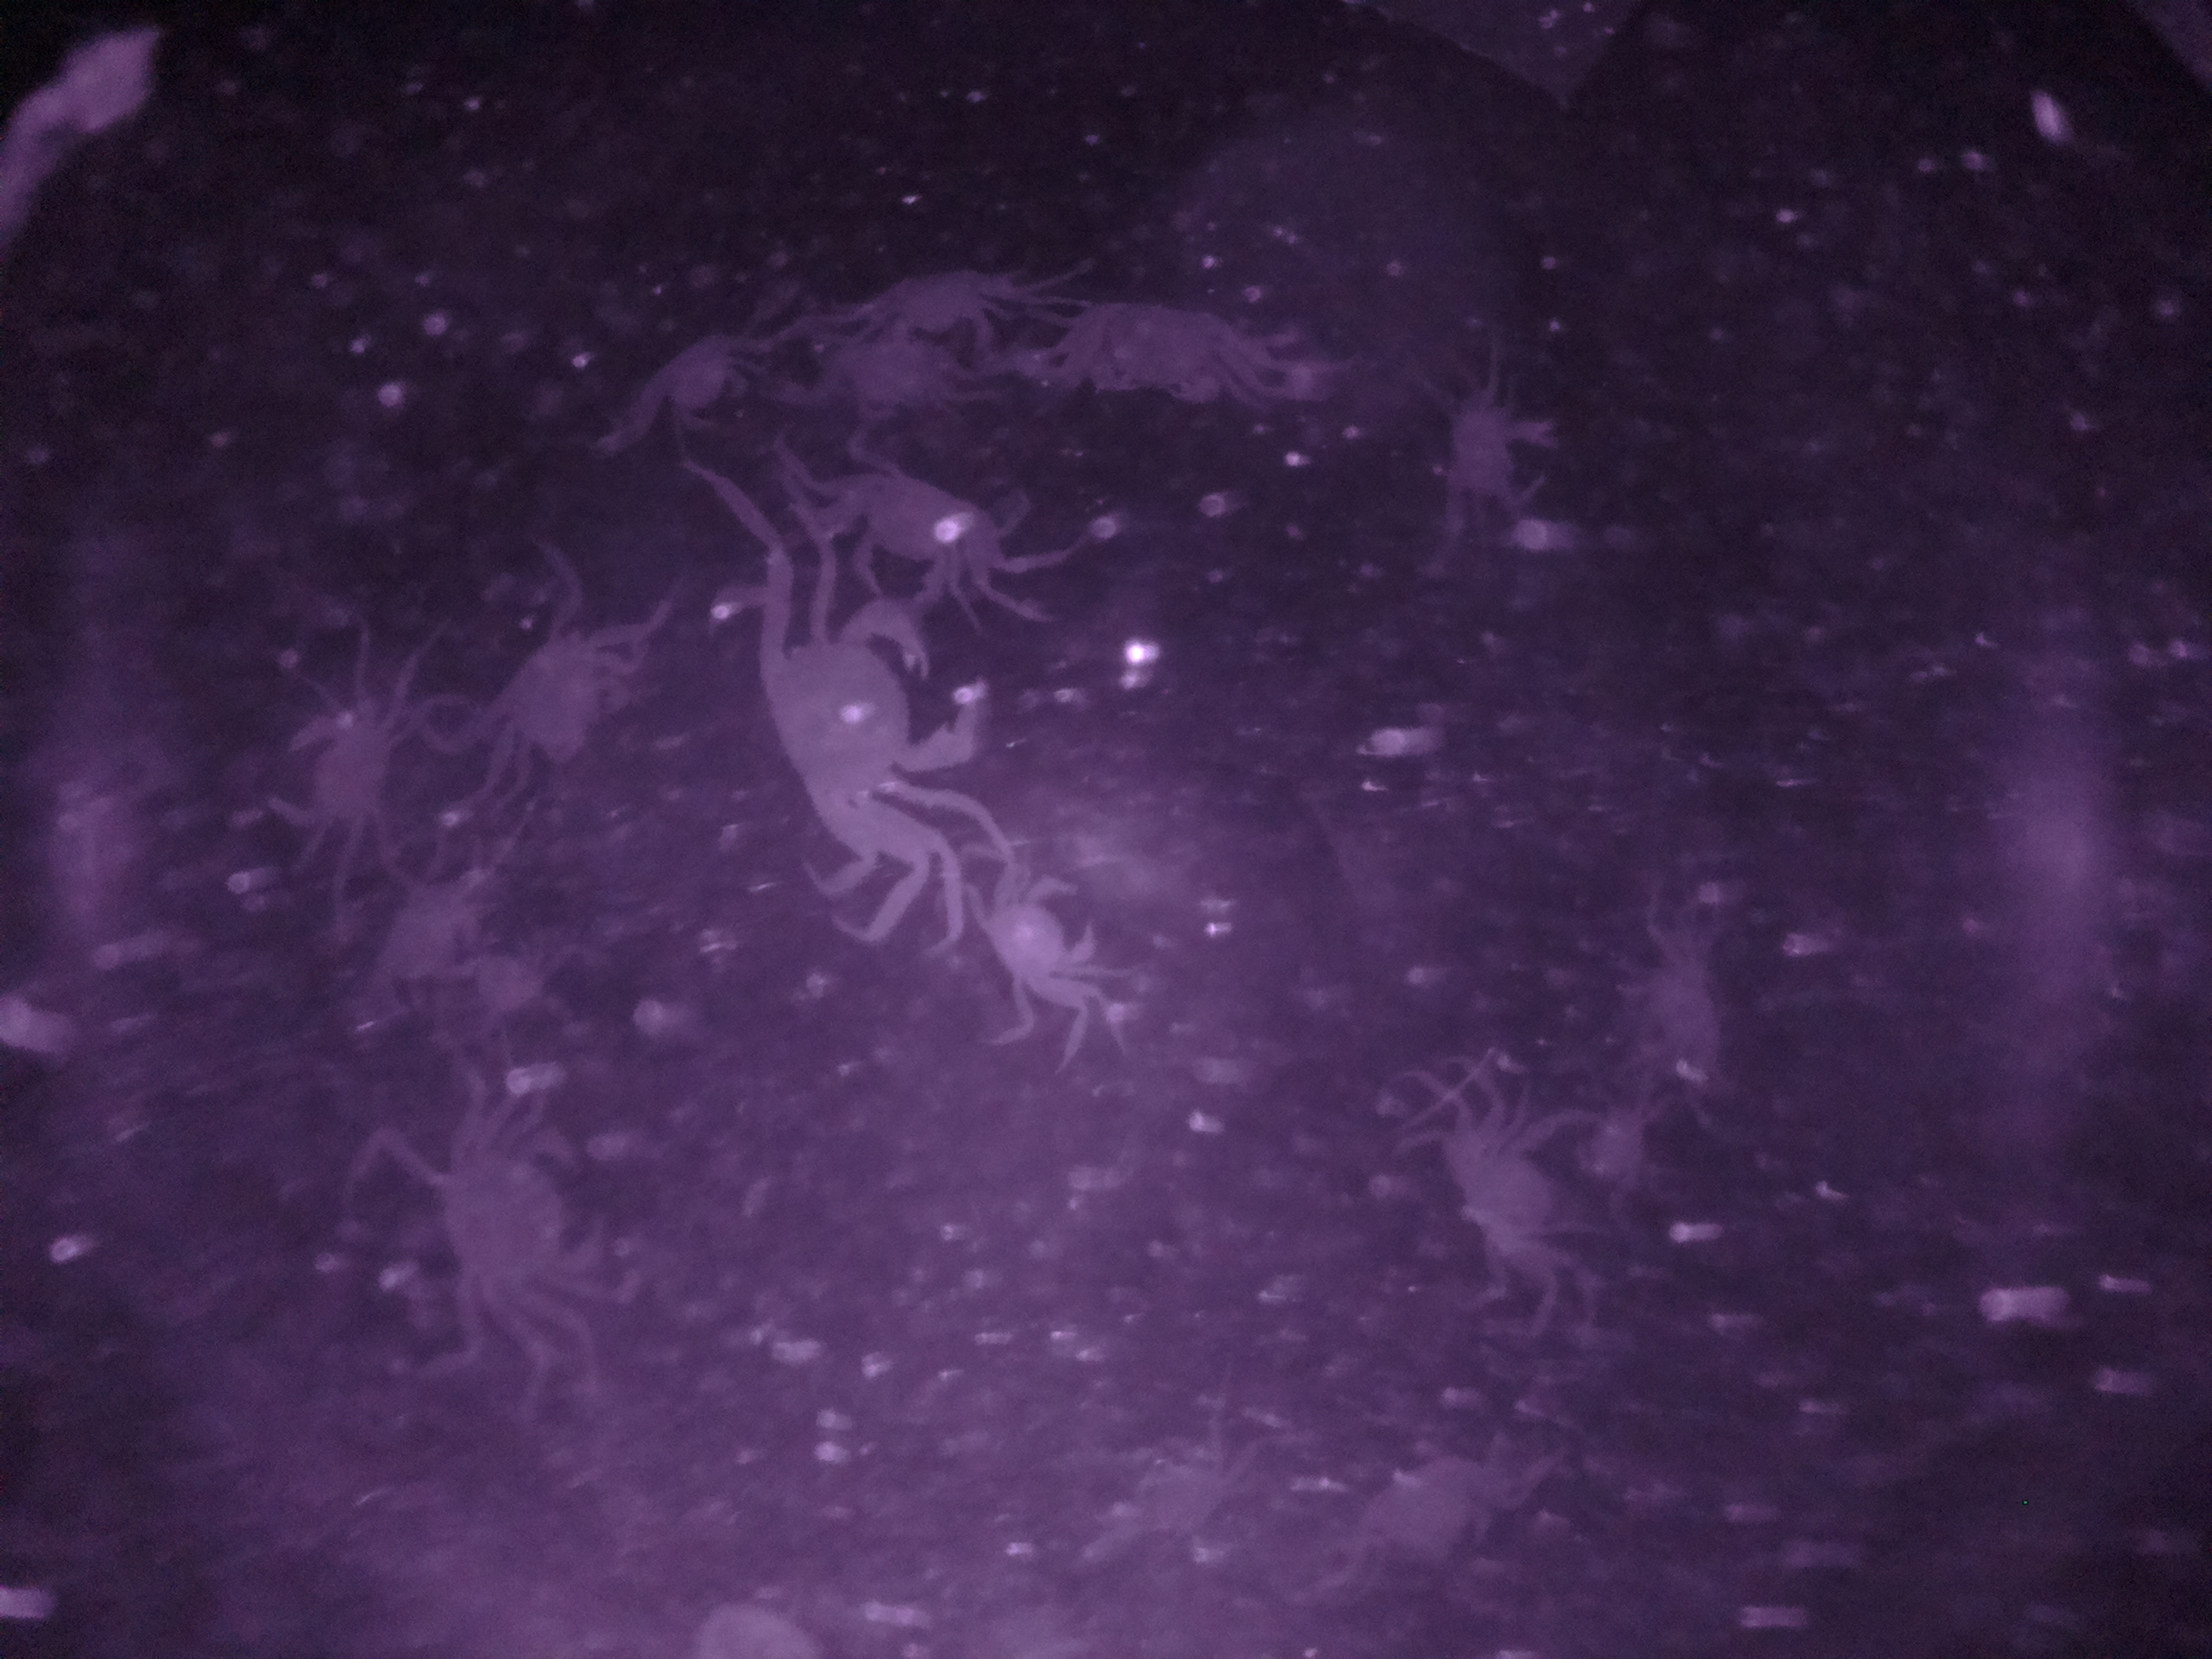Crab: (738, 587, 1010, 873), (399, 1098, 613, 1344), (792, 434, 1042, 608), (475, 596, 648, 788), (261, 676, 423, 861), (958, 842, 1111, 1019)
